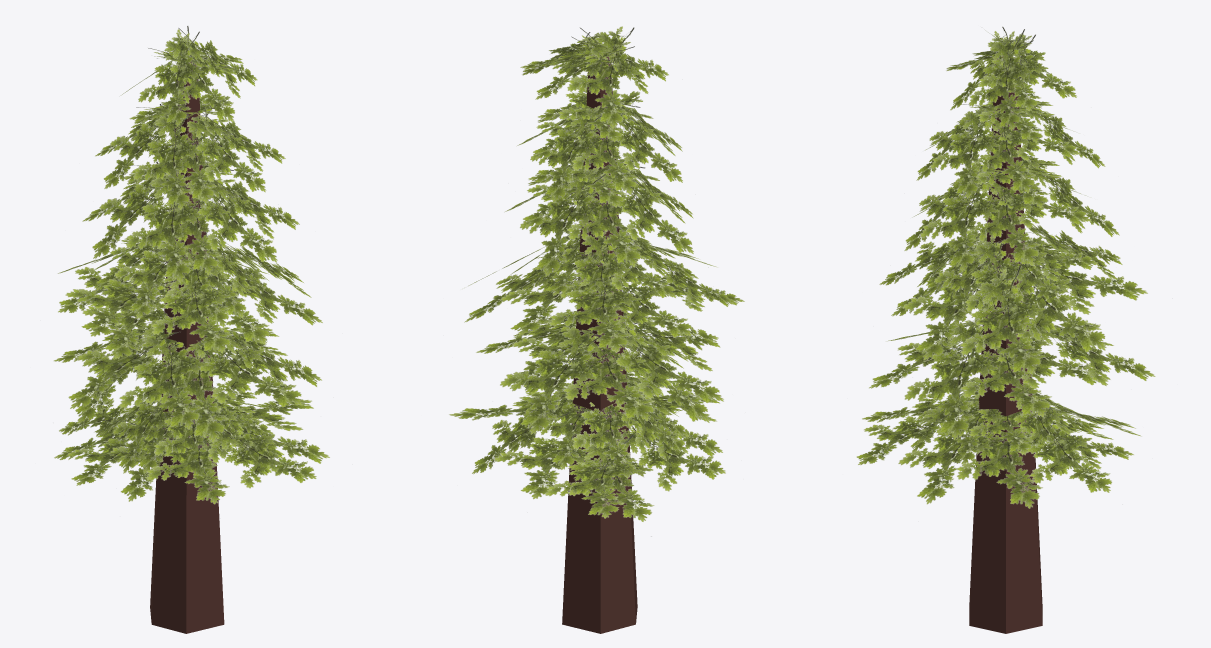
Rendered from Tree.glb.
The picture shows the model from 3 angles, left to right: view 1: azimuth 30°, elevation 25°; view 2: azimuth 150°, elevation 25°; view 3: azimuth 270°, elevation 25°; orthographic projection.
Visible parts, largest first — view 1: Pine; view 2: Pine; view 3: Pine.
Part boxes in pixels (bbox=[...]): Pine: bbox=[53, 26, 329, 633]; Pine: bbox=[449, 26, 744, 633]; Pine: bbox=[856, 26, 1155, 633].
Bounding box in the file's own units: 9.14 × 15.78 × 9.37.
2 materials, 1 textured.
